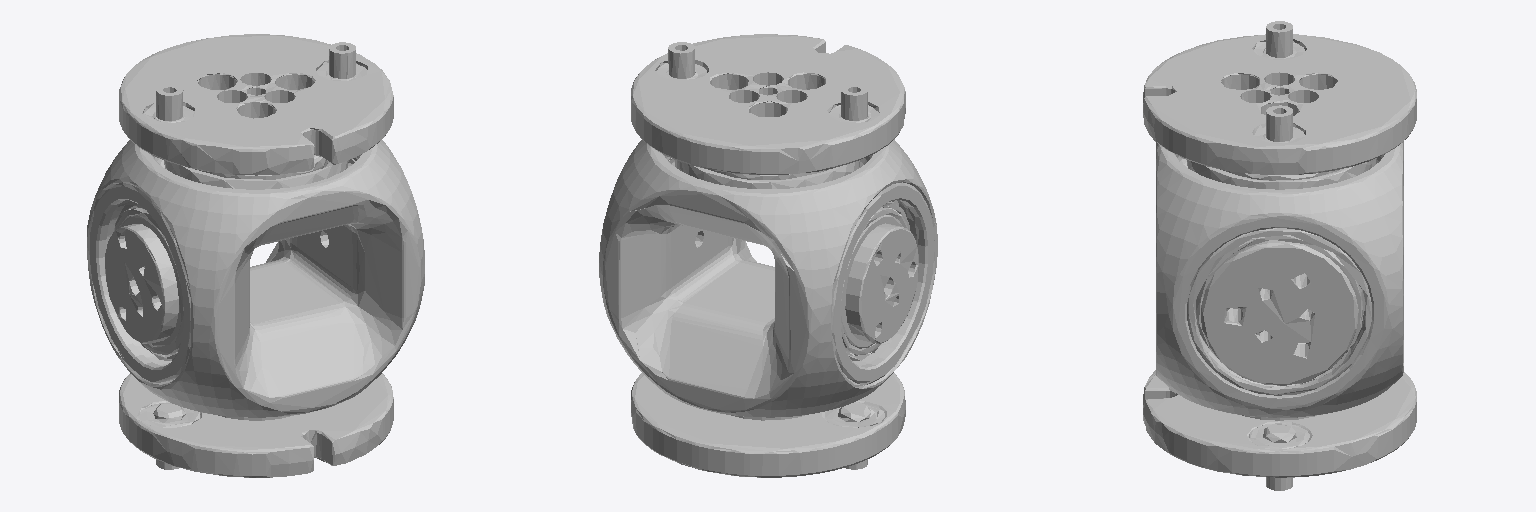
Rendered from wristPitchRight.obj.
3 views of the same model, side by side, from view 1: azimuth 30°, elevation 25°; view 2: azimuth 150°, elevation 25°; view 3: azimuth 270°, elevation 25° (orthographic).
Parts seen in each view (by area): view 1: wristPitchRight; view 2: wristPitchRight; view 3: wristPitchRight.
Part boxes in pixels (x1,y1,x2,y2): wristPitchRight: (87, 34, 424, 477); wristPitchRight: (599, 34, 937, 477); wristPitchRight: (1143, 21, 1416, 490).
Size of the model in its own units: 0.041 by 0.06 by 0.0399.